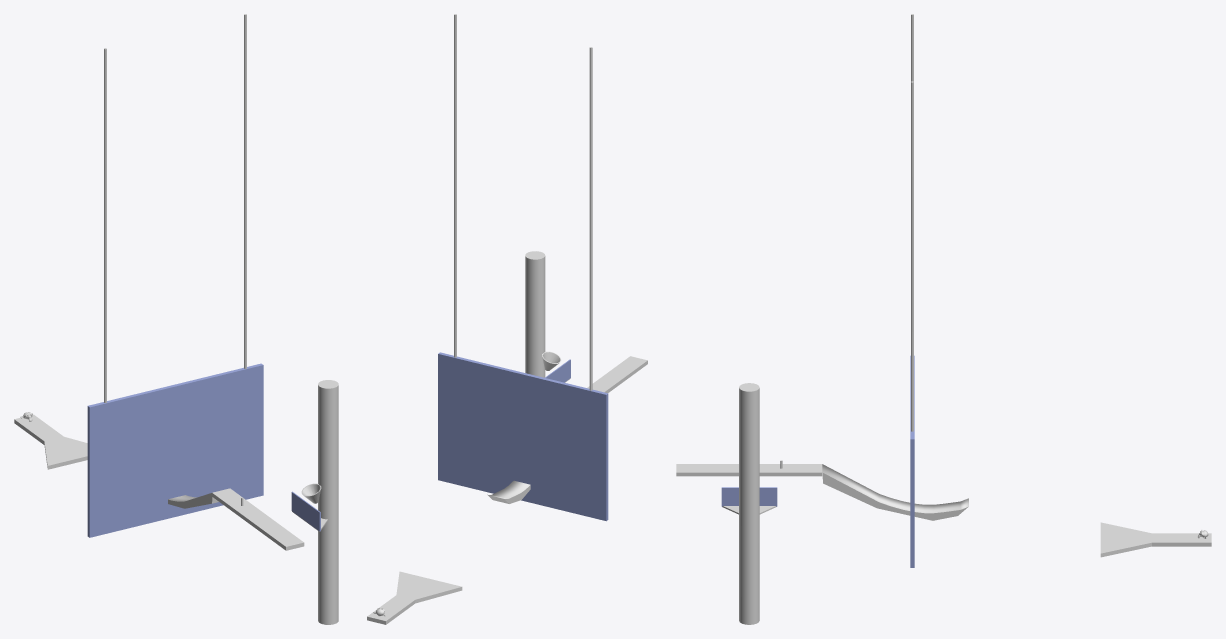
3 renders of one model, left to right at view 1: azimuth 30°, elevation 25°; view 2: azimuth 150°, elevation 25°; view 3: azimuth 270°, elevation 25°, orthographic. The views are drawn at different scales.
Parts seen in each view (by area): view 1: Cube-col.003, Cylinder-col, Cylinder.001, Cube.002-col, Cube-col, Cube-col.002, Cube.001-col; view 2: Cube-col.003, Cylinder-col, Cylinder.001, Cube.002-col, Cube-col, Cube.001-col; view 3: Cylinder-col, Cube.001-col, Cube.002-col, Cube-col, Cylinder.001, Cube-col.003.
Part boxes in pixels (x1,y1,x2,y2): Cube-col.003: (87,363,263,537); Cylinder-col: (318,380,338,624); Cylinder.001: (104,14,246,402); Cube.002-col: (14,414,87,469); Cube-col: (212,488,304,550); Cube-col.002: (291,491,320,531); Cube.001-col: (168,493,218,508); Cube-col.003: (438,352,608,521); Cylinder-col: (525,251,545,377); Cylinder.001: (454,14,592,390); Cube.002-col: (367,571,462,624); Cube-col: (587,356,647,393); Cube.001-col: (487,480,530,503); Cylinder-col: (739,383,759,624); Cube.001-col: (822,464,968,520); Cube.002-col: (1100,522,1211,557); Cube-col: (676,464,822,476); Cylinder.001: (911,14,913,431); Cube-col.003: (910,355,914,567).
Bounding box in the file's own units: 46.07 × 138 × 124.
